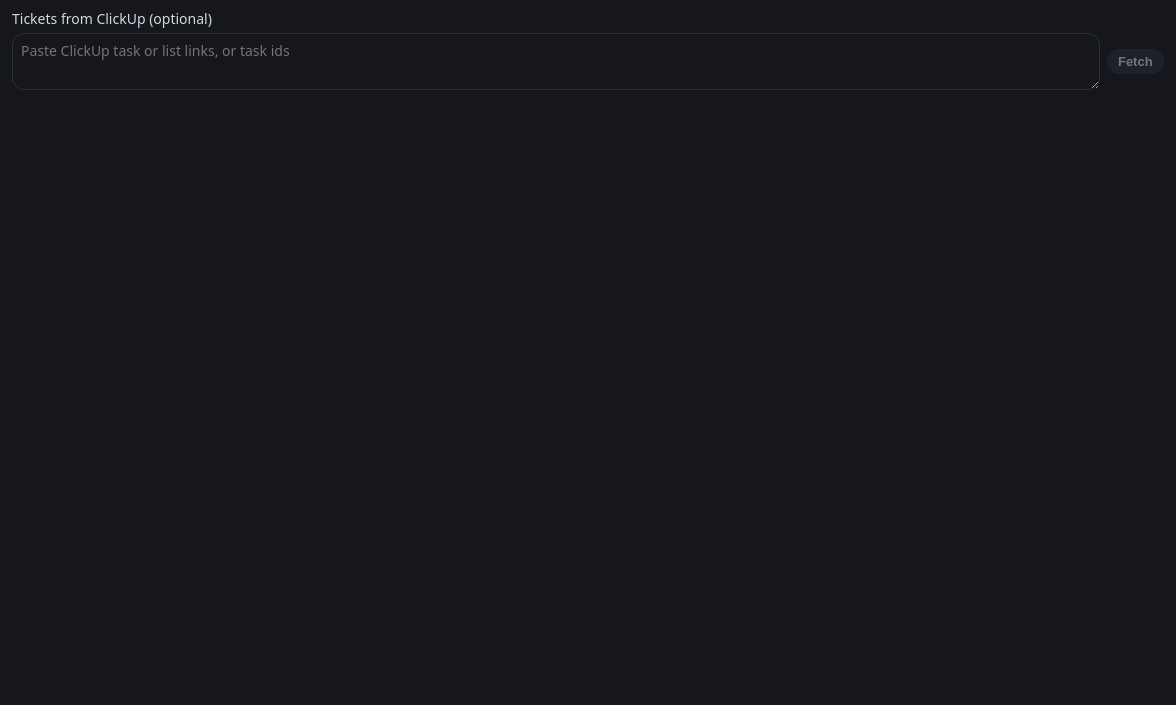
Test: ClickUpIntake › shows the backend's too-many text and tells Start until removals bring it to 100
The width and height of the screenshot is (1176, 705).
Type "86b1aa001" into the text box with placeholder "Paste ClickUp task or list links, or task ids" at {"x": 556, "y": 61}, box x1=12 y1=33 x2=1100 y2=90
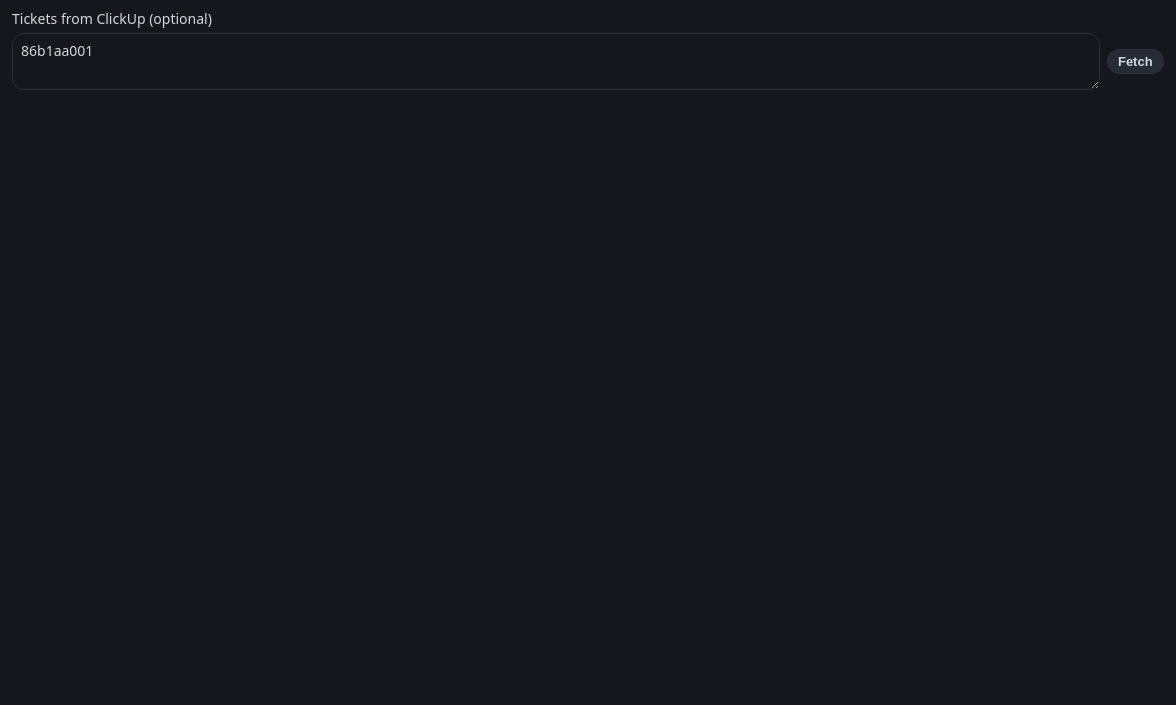
Click the button "Fetch" at {"x": 1135, "y": 61}, box x1=1106 y1=49 x2=1164 y2=74
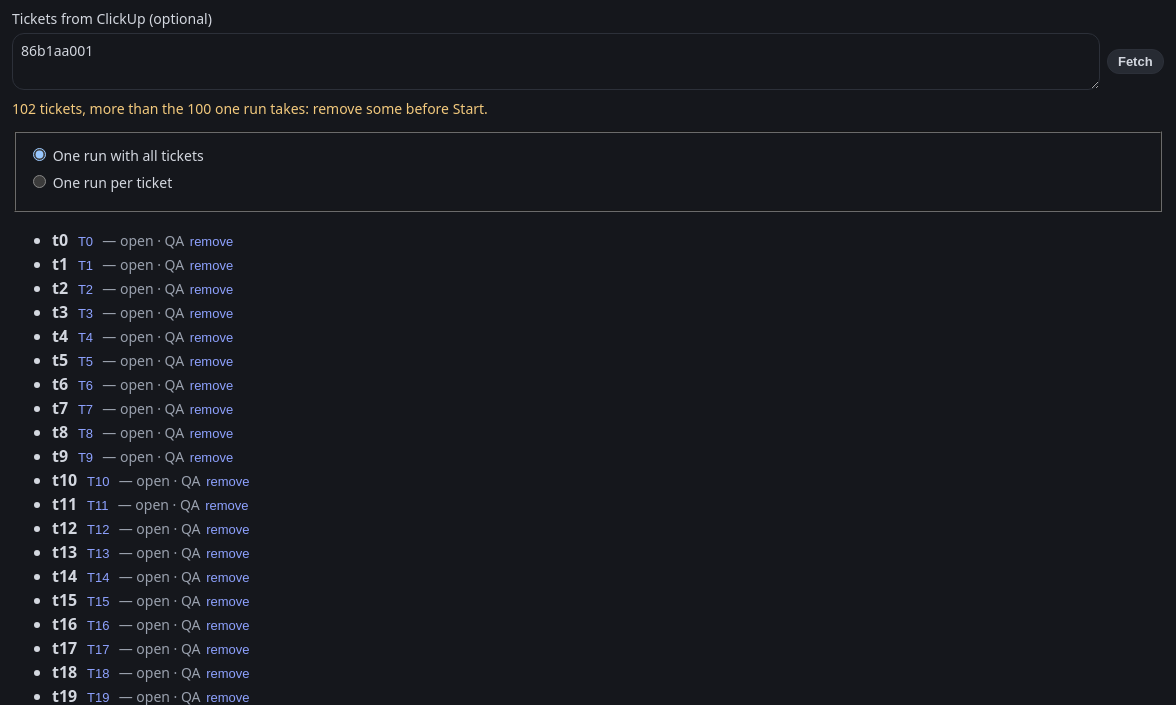
Expected: the text with test id "too-many" shows "102 tickets, more than the 100", x1=12 y1=99 x2=488 y2=118
Click the button with aria-label "Remove t0" at {"x": 211, "y": 241}, box x1=184 y1=234 x2=239 y2=248
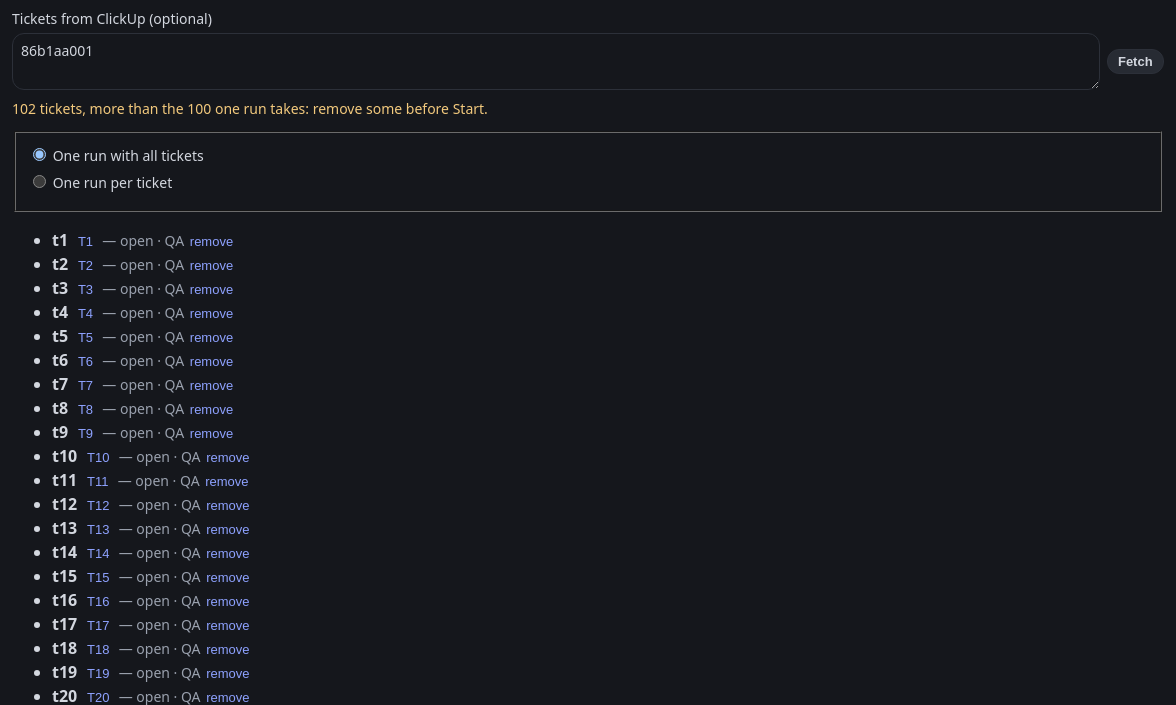
Expected: the text with test id "too-many" is shown, x1=12 y1=99 x2=488 y2=118
Click the button with aria-label "Remove t1" at {"x": 211, "y": 241}, box x1=184 y1=234 x2=239 y2=248
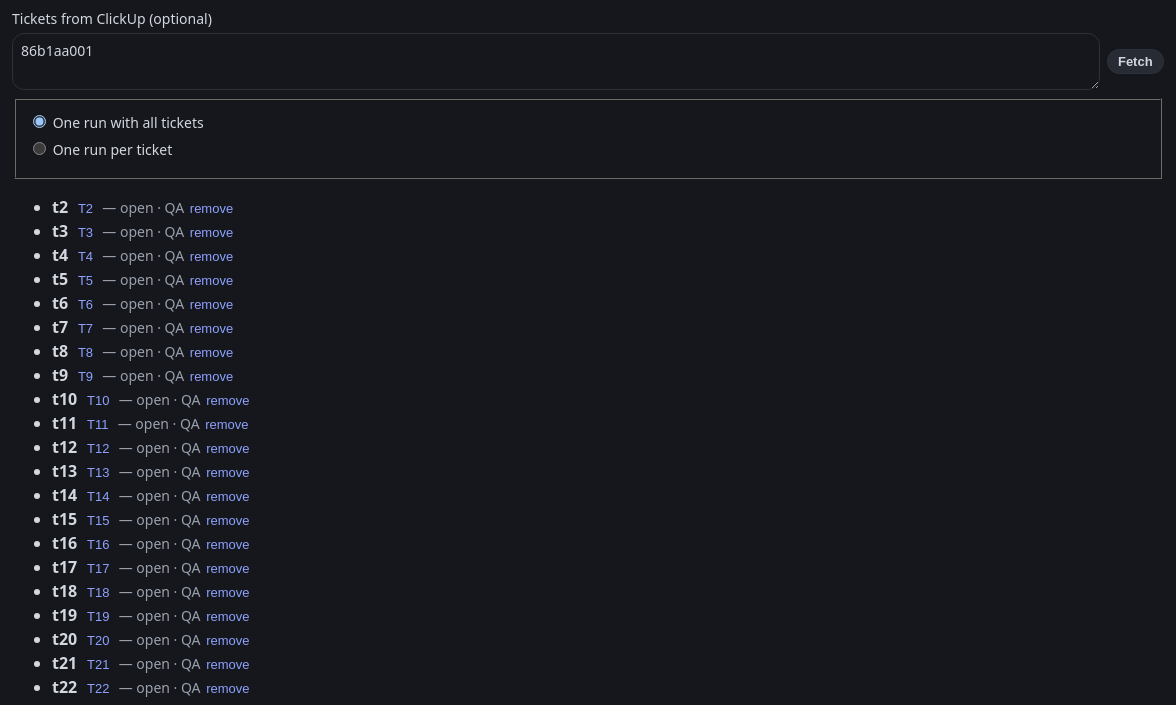
Expected: the text with test id "too-many" is gone
